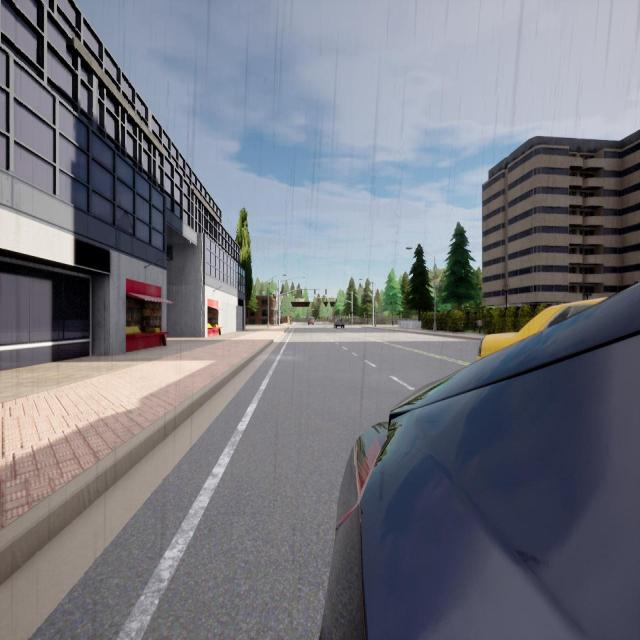Vehicle: (321, 284, 639, 638), (477, 298, 608, 359), (335, 320, 344, 328), (308, 318, 314, 325)
traffic_light: (314, 289, 316, 294), (351, 310, 353, 314), (301, 289, 302, 294), (336, 298, 337, 302), (326, 299, 327, 302), (319, 299, 319, 302), (326, 289, 326, 294)
